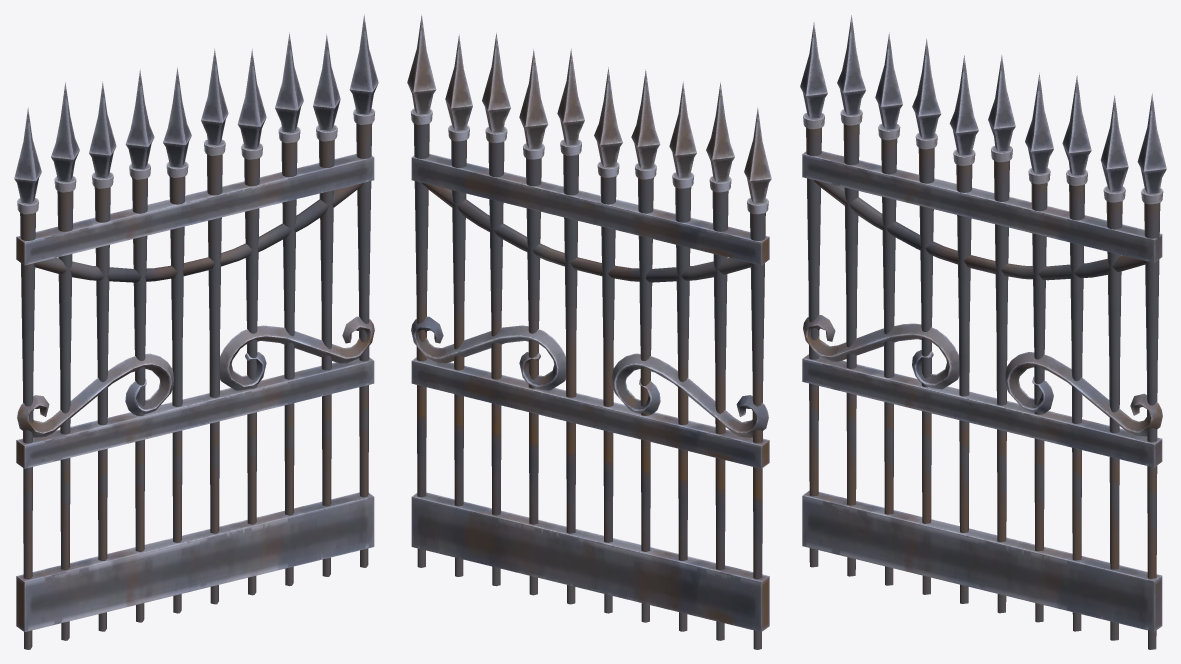
Rendered from metal_fence.glb.
The picture shows the model from 3 angles, left to right: view 1: azimuth 30°, elevation 25°; view 2: azimuth 150°, elevation 25°; view 3: azimuth 330°, elevation 25°; orthographic projection.
Parts seen in each view (by area): view 1: Prop_MetalFence_Ornament; view 2: Prop_MetalFence_Ornament; view 3: Prop_MetalFence_Ornament.
Boxes of the visible parts, x1,y1,x2,y2 form: Prop_MetalFence_Ornament: (14,14,378,649); Prop_MetalFence_Ornament: (407,14,771,649); Prop_MetalFence_Ornament: (800,15,1166,649).
Bounding box in the file's own units: 1.95 × 2.85 × 0.1561.
1 material, 1 textured.
